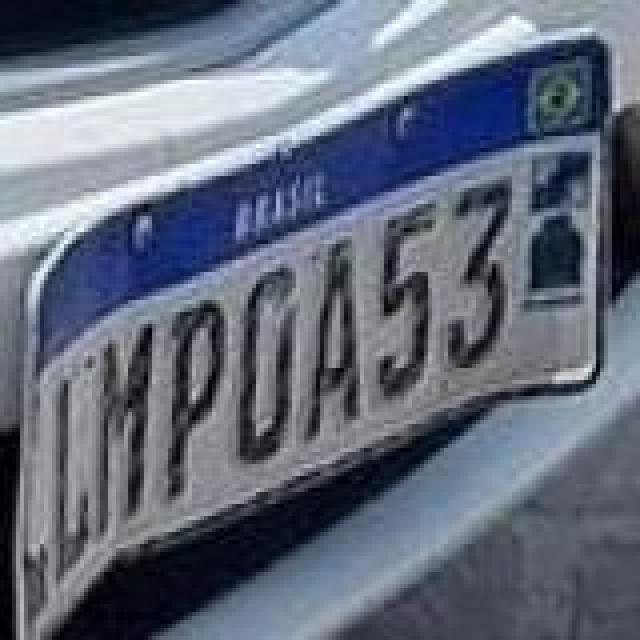3: (442, 178, 518, 366)
5: (376, 194, 440, 398)
A: (306, 234, 366, 446)
D: (232, 258, 296, 462)
L: (52, 378, 92, 582)
M: (96, 318, 160, 538)
P: (164, 298, 228, 502)
